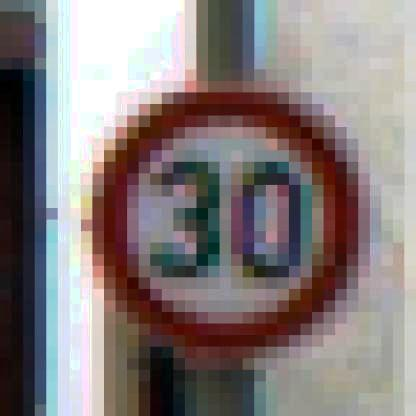Speed Limit -30-: (85, 79, 375, 362)
